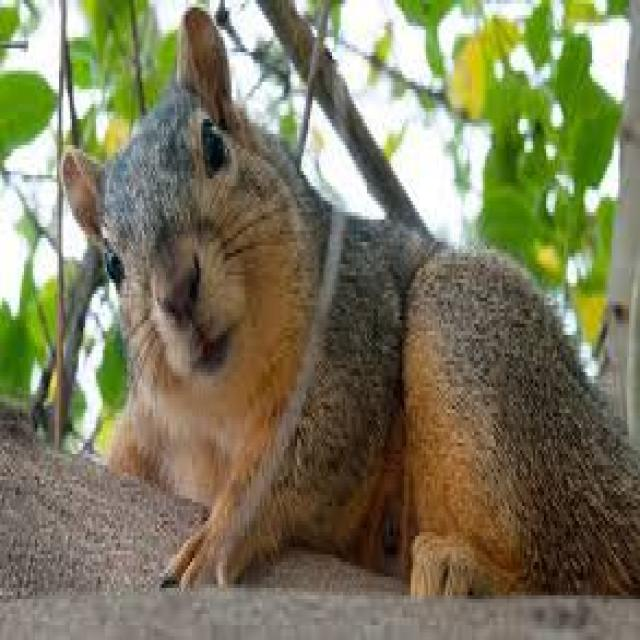Squirrel: (62, 42, 633, 592)
